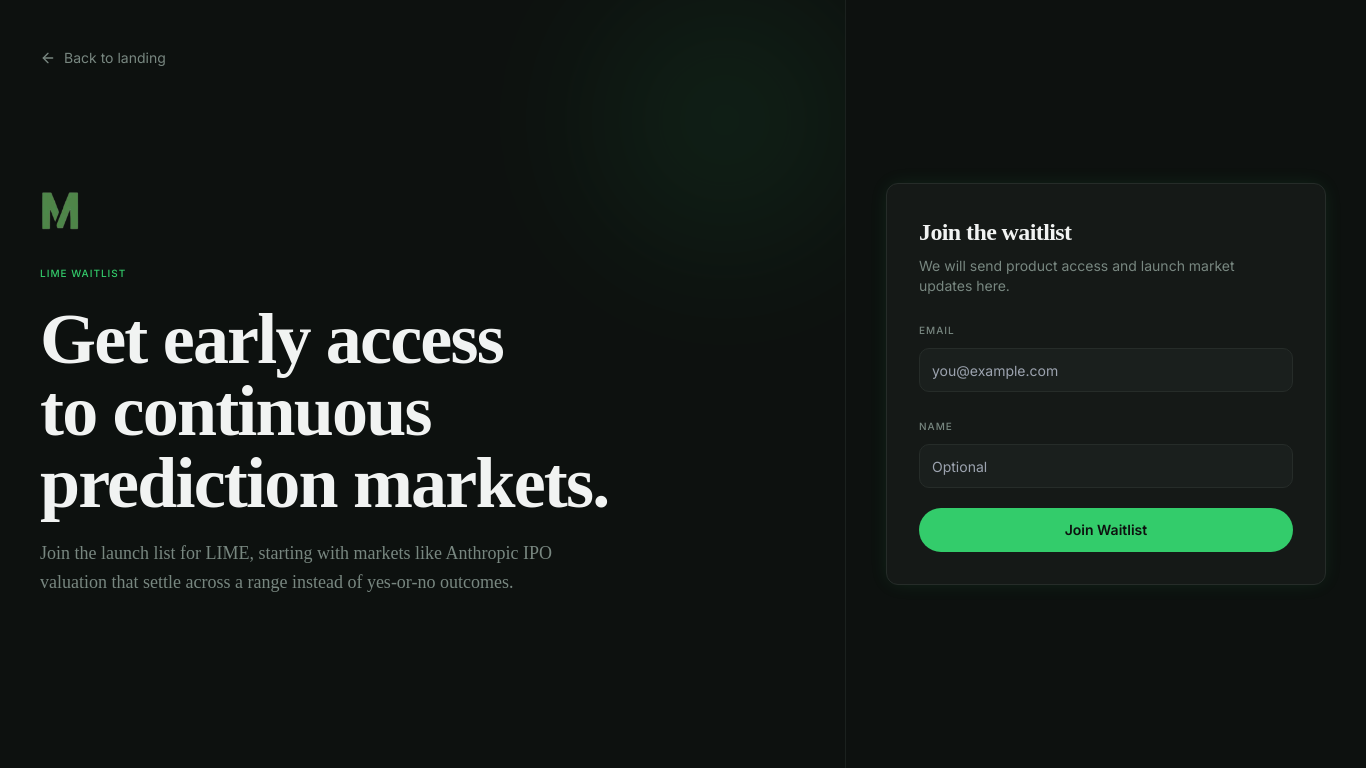
Waitlist › blocks invalid email before submitting
The width and height of the screenshot is (1366, 768).
Type "not-an-email" into the field with placeholder "you@example.com" at (1106, 370), box [919,348,1293,392]
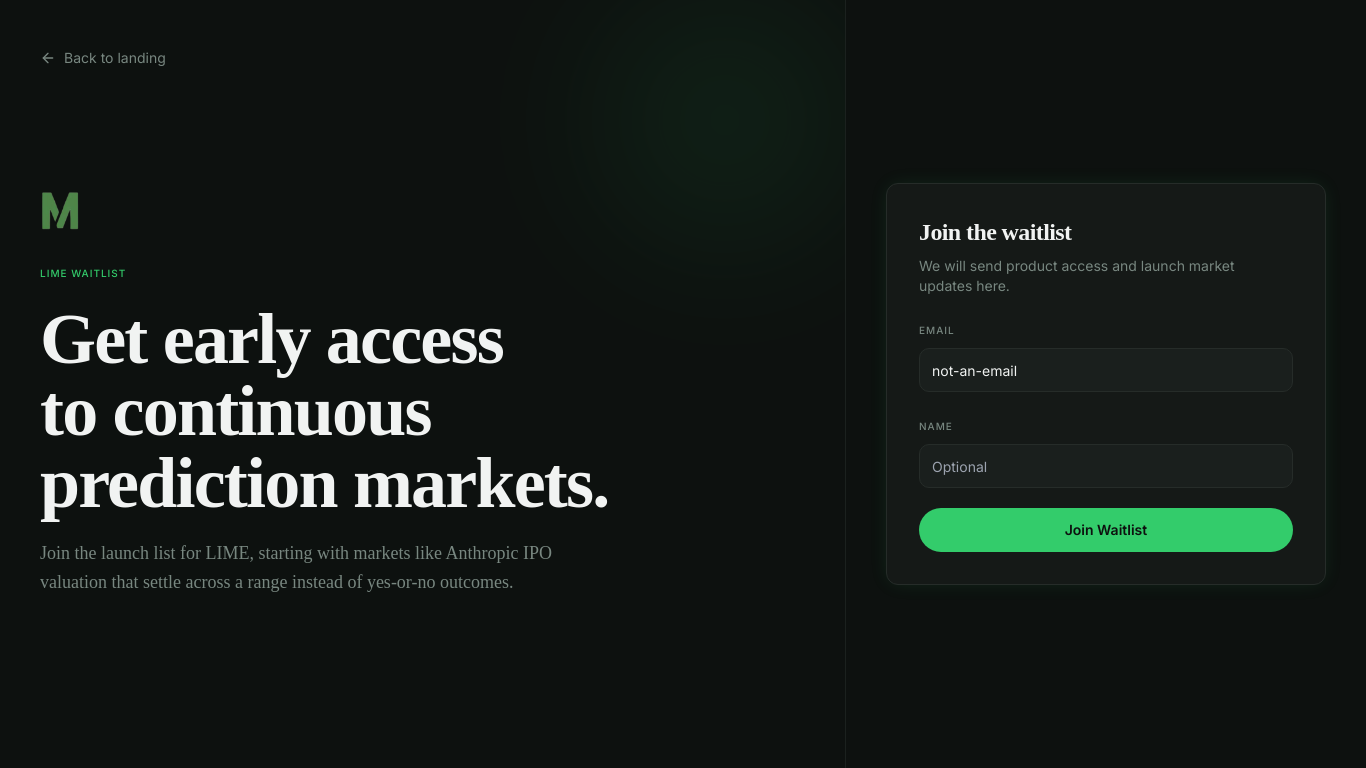
Click the button "Join Waitlist" at (1106, 530), box [919,508,1293,552]
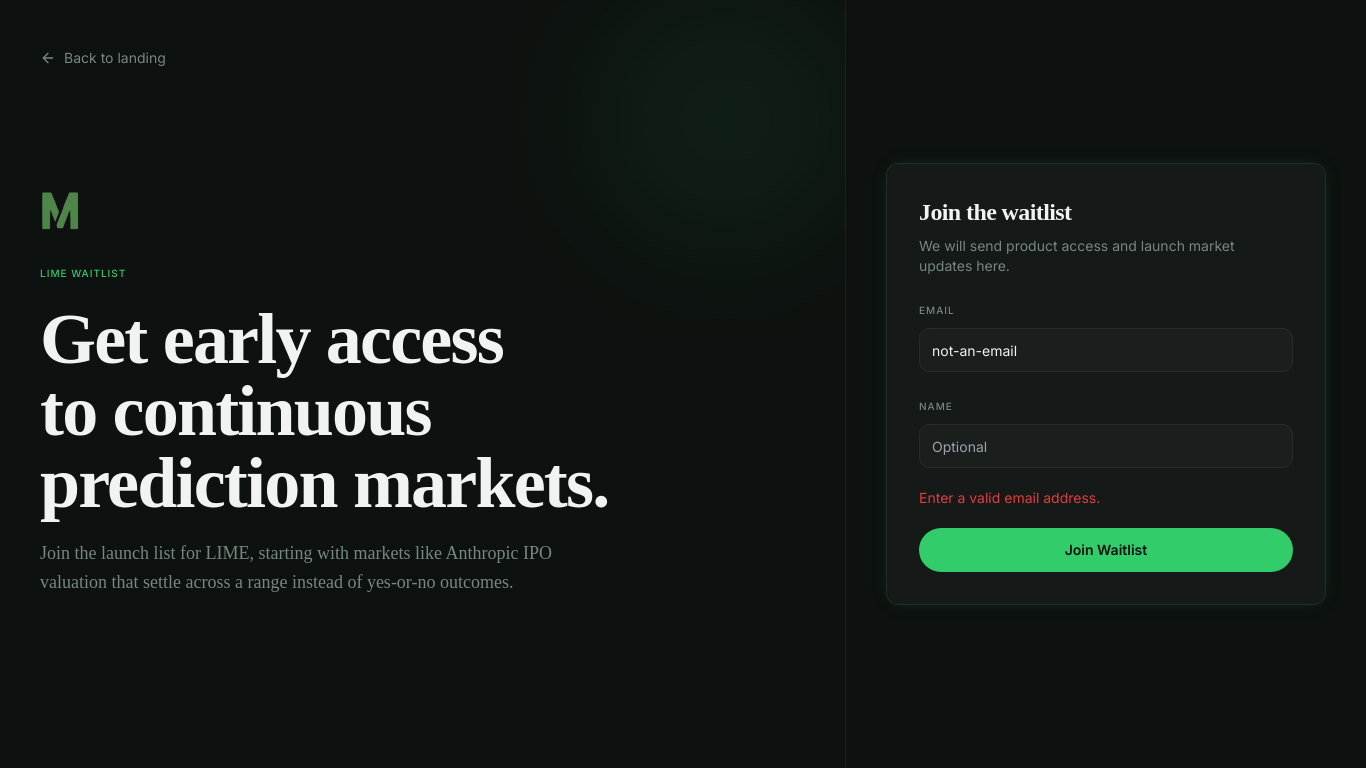
Expected: the message reads "Enter a valid email address.", [919,489,1100,506]
